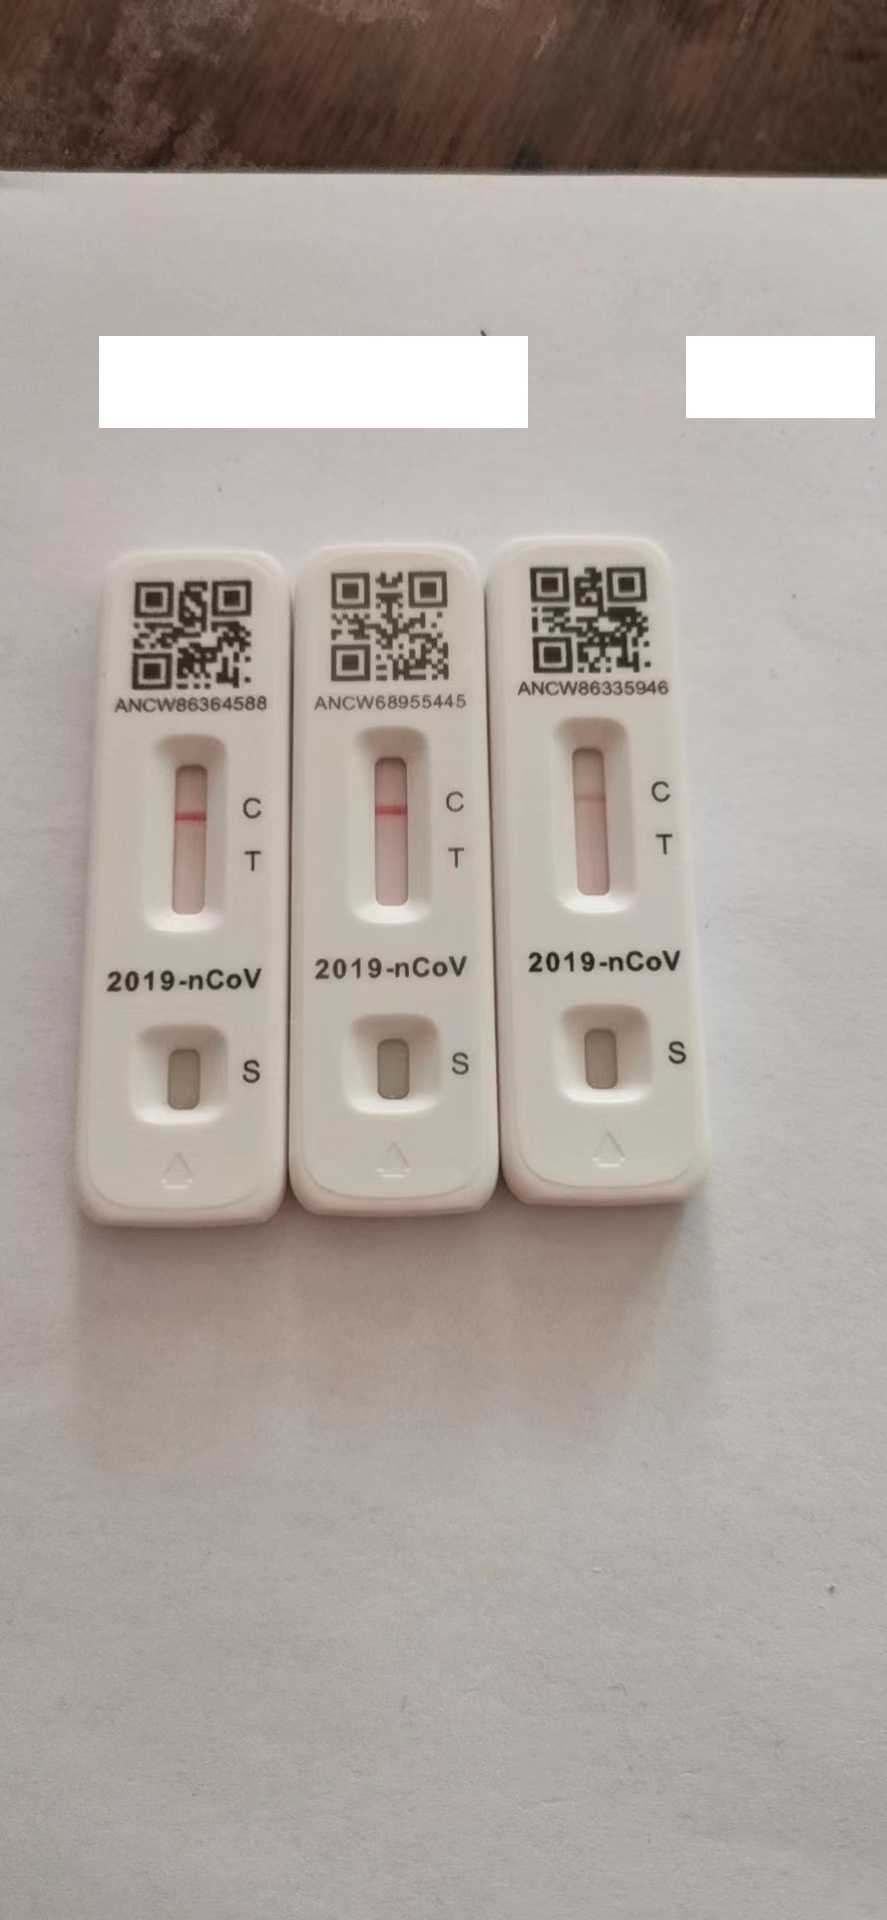negative: (350, 729, 436, 923), (553, 719, 636, 915), (149, 732, 225, 934)
